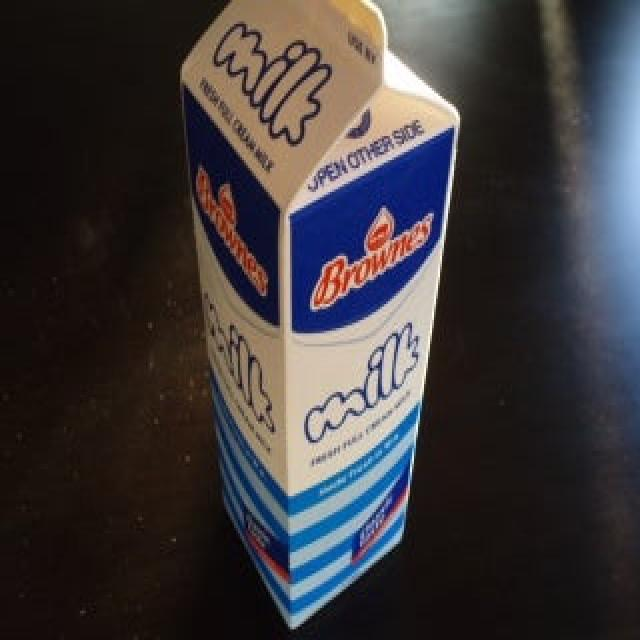cardboard: (179, 0, 454, 633)
